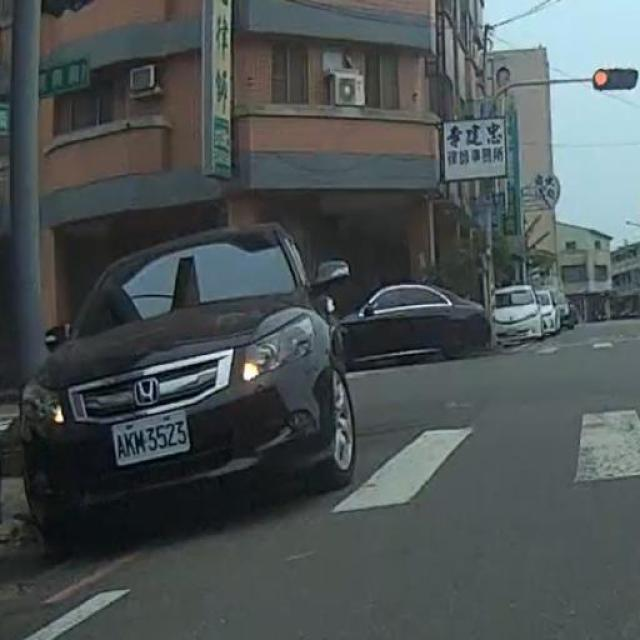Legalparking: (492, 285, 576, 342)
illegalparking: (20, 224, 488, 541)
